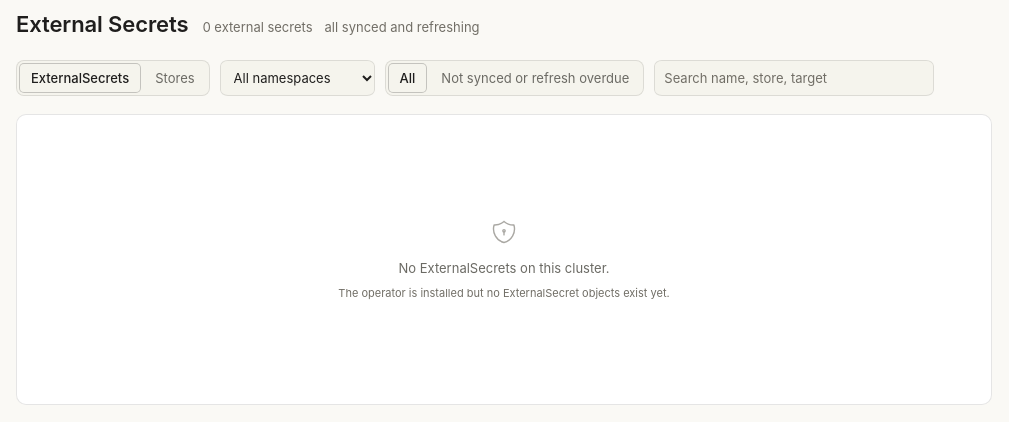
it: ExternalSecretsView per-kind dataset + selection lifecycle (Codex c9231c13) › after-sync store failure with only Ready cached rows is last observed, never an unqualified all-ready
Click the button "Stores": [175, 78] box [143,63,207,93]
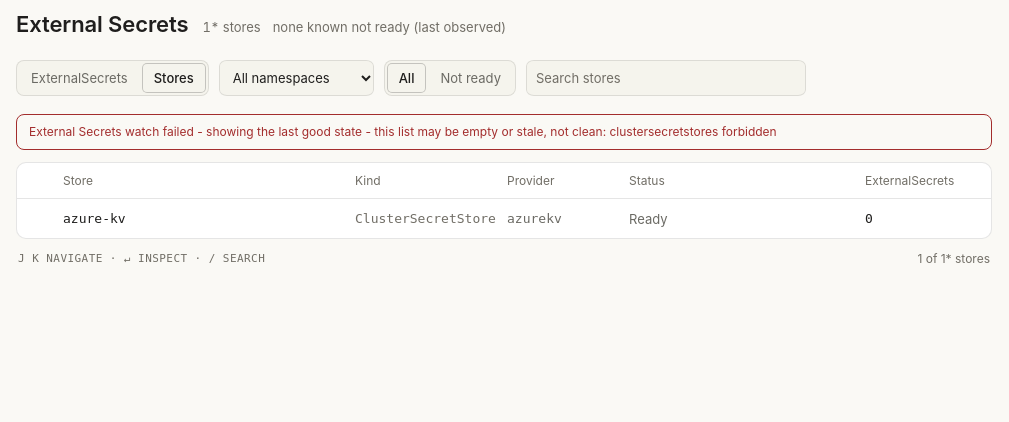
Expected: the text "none known not ready (last observed)" is shown, [273,18,506,36]
